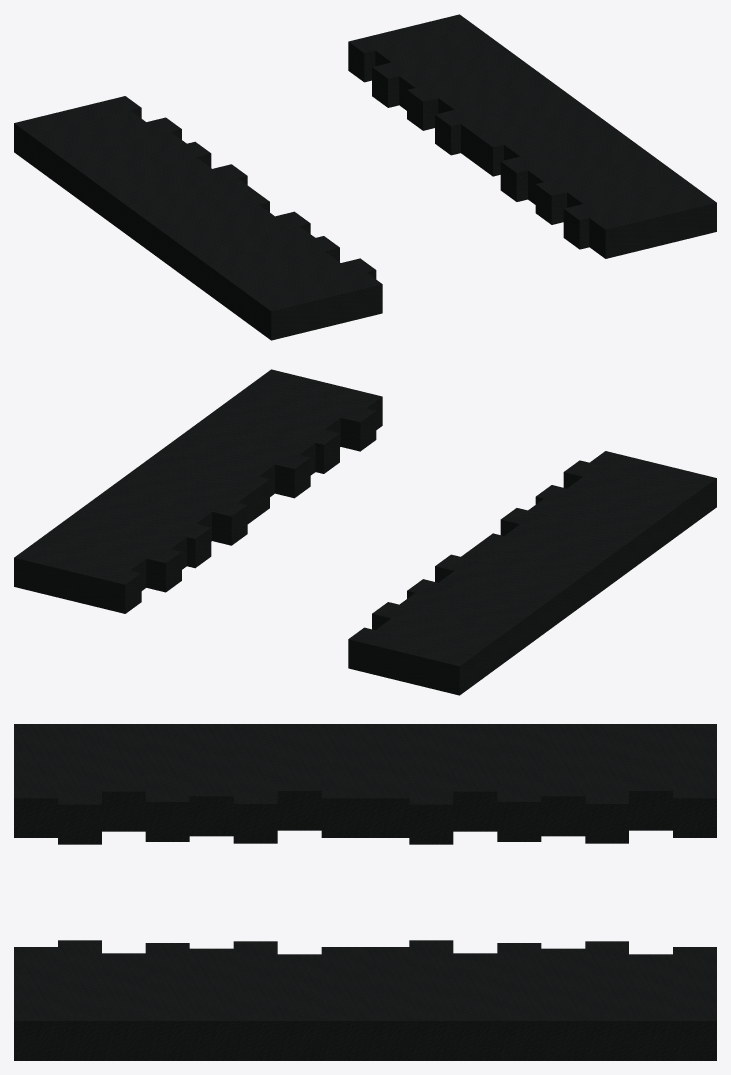
File: layered_roof-heavy-collision.obj
3 renders of one model, top to bottom at view 1: azimuth 30°, elevation 25°; view 2: azimuth 150°, elevation 25°; view 3: azimuth 270°, elevation 25°, orthographic. The views are drawn at different scales.
Visible parts, largest first — view 1: layered_roof.Heavy.proxy30, layered_roof.Heavy.proxy31, layered_roof.Heavy.proxy25, layered_roof.Heavy.proxy9, layered_roof.Heavy.proxy5, layered_roof.Heavy.proxy21, layered_roof.Heavy.proxy29, layered_roof.Heavy.proxy13, layered_roof.Heavy.proxy1, layered_roof.Heavy.proxy17, layered_roof.Heavy.proxy8, layered_roof.Heavy.proxy28 (+20 smaller); view 2: layered_roof.Heavy.proxy0, layered_roof.Heavy.proxy1, layered_roof.Heavy.proxy29, layered_roof.Heavy.proxy13, layered_roof.Heavy.proxy5, layered_roof.Heavy.proxy21, layered_roof.Heavy.proxy12, layered_roof.Heavy.proxy20, layered_roof.Heavy.proxy25, layered_roof.Heavy.proxy9, layered_roof.Heavy.proxy28, layered_roof.Heavy.proxy4 (+20 smaller); view 3: layered_roof.Heavy.proxy12, layered_roof.Heavy.proxy13, layered_roof.Heavy.proxy20, layered_roof.Heavy.proxy21, layered_roof.Heavy.proxy28, layered_roof.Heavy.proxy29, layered_roof.Heavy.proxy8, layered_roof.Heavy.proxy9, layered_roof.Heavy.proxy24, layered_roof.Heavy.proxy25, layered_roof.Heavy.proxy4, layered_roof.Heavy.proxy5 (+20 smaller).
Boxes of the visible parts, left/top/right/bottom form: layered_roof.Heavy.proxy30: left=255, top=272, right=382, bottom=340; layered_roof.Heavy.proxy31: left=589, top=191, right=716, bottom=258; layered_roof.Heavy.proxy25: left=535, top=155, right=668, bottom=224; layered_roof.Heavy.proxy9: left=407, top=61, right=539, bottom=130; layered_roof.Heavy.proxy5: left=372, top=38, right=507, bottom=107; layered_roof.Heavy.proxy21: left=500, top=132, right=636, bottom=201; layered_roof.Heavy.proxy29: left=563, top=179, right=700, bottom=249; layered_roof.Heavy.proxy13: left=435, top=85, right=571, bottom=155; layered_roof.Heavy.proxy1: left=348, top=14, right=475, bottom=82; layered_roof.Heavy.proxy17: left=477, top=108, right=603, bottom=176; layered_roof.Heavy.proxy8: left=78, top=141, right=211, bottom=210; layered_roof.Heavy.proxy28: left=239, top=258, right=376, bottom=328; layered_roof.Heavy.proxy0: left=348, top=627, right=475, bottom=695; layered_roof.Heavy.proxy1: left=14, top=546, right=141, bottom=613; layered_roof.Heavy.proxy29: left=239, top=381, right=376, bottom=451; layered_roof.Heavy.proxy13: left=111, top=475, right=247, bottom=545; layered_roof.Heavy.proxy5: left=46, top=522, right=181, bottom=592; layered_roof.Heavy.proxy21: left=175, top=428, right=310, bottom=498; layered_roof.Heavy.proxy12: left=435, top=554, right=572, bottom=624; layered_roof.Heavy.proxy20: left=500, top=508, right=636, bottom=577; layered_roof.Heavy.proxy25: left=207, top=404, right=339, bottom=473; layered_roof.Heavy.proxy9: left=79, top=499, right=211, bottom=568; layered_roof.Heavy.proxy28: left=563, top=460, right=700, bottom=530; layered_roof.Heavy.proxy4: left=372, top=602, right=507, bottom=671; layered_roof.Heavy.proxy12: left=409, top=724, right=453, bottom=844; layered_roof.Heavy.proxy13: left=409, top=940, right=453, bottom=1060; layered_roof.Heavy.proxy20: left=233, top=724, right=277, bottom=843; layered_roof.Heavy.proxy21: left=233, top=941, right=277, bottom=1060; layered_roof.Heavy.proxy28: left=58, top=724, right=101, bottom=844; layered_roof.Heavy.proxy29: left=58, top=940, right=101, bottom=1060; layered_roof.Heavy.proxy8: left=497, top=724, right=541, bottom=841; layered_roof.Heavy.proxy9: left=497, top=943, right=541, bottom=1060; layered_roof.Heavy.proxy24: left=145, top=724, right=189, bottom=841; layered_roof.Heavy.proxy25: left=145, top=943, right=189, bottom=1060; layered_roof.Heavy.proxy4: left=585, top=724, right=628, bottom=843; layered_roof.Heavy.proxy5: left=585, top=941, right=628, bottom=1060.
Bounding box in the file's own units: 16 × 1 × 16.
1 material, 1 textured.
